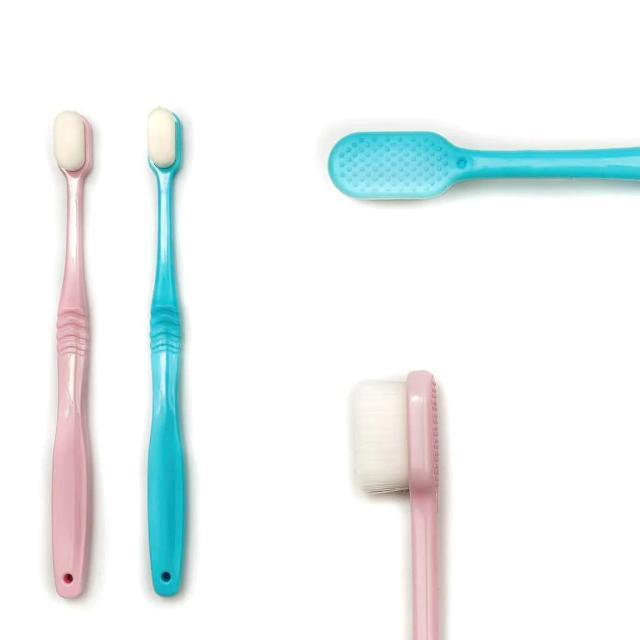toothbrush: (128, 97, 218, 611)
